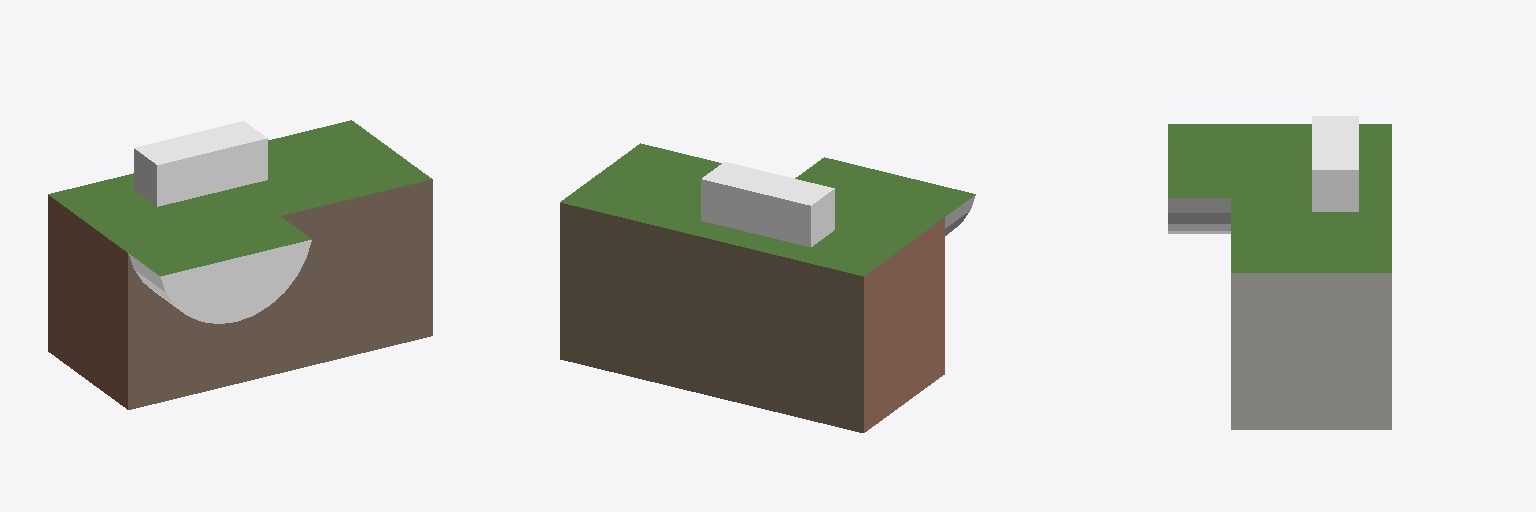
Rendered from demo1.obj.
3 renders of one model, left to right at view 1: azimuth 30°, elevation 25°; view 2: azimuth 150°, elevation 25°; view 3: azimuth 270°, elevation 25°, orthographic.
Parts seen in each view (by area): view 1: Mesh1 Model; view 2: Mesh1 Model; view 3: Mesh1 Model.
Part boxes in pixels (x1,y1,x2,y2): Mesh1 Model: (48,120,432,409); Mesh1 Model: (560,143,975,432); Mesh1 Model: (1168,116,1391,429).
Size of the model in its own units: 6307 by 3937 by 4038.